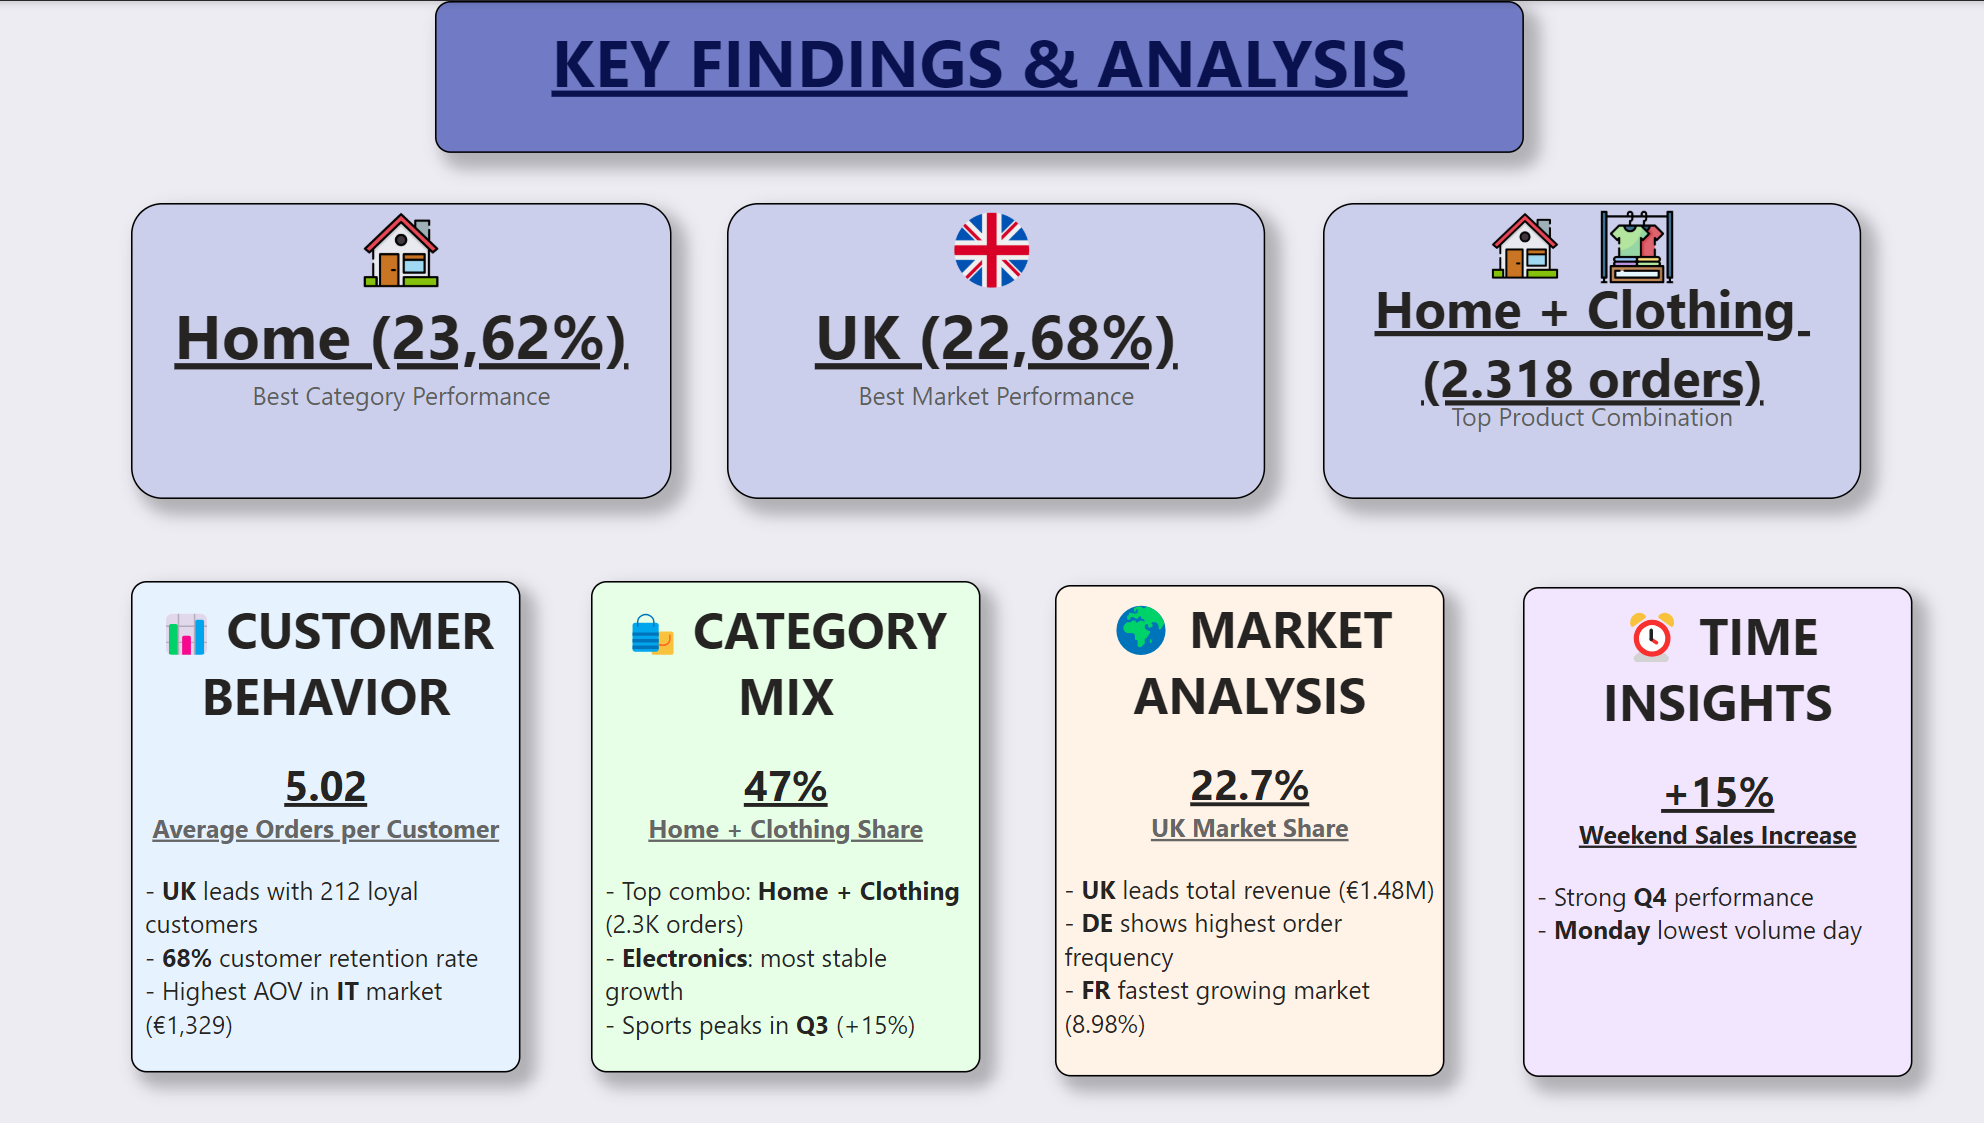

This screenshot's page, from the dashboard's own definition file:
{"tool":"powerbi","page":{"name":"Pagina 4","canvas":[1280,720],"ordinal":3},"visuals":[{"type":"textbox","box":[281.4,0,699.1,97.7],"z":0},{"type":"card","fields":{"Values":["prepared_ecommerce_data.Best Category Performance"]},"box":[85.7,130,347.1,190],"z":1000},{"type":"card","fields":{"Values":["prepared_ecommerce_data.Best Market Performance"]},"box":[468.6,130,345.7,190],"z":2000},{"type":"card","fields":{"Values":["prepared_ecommerce_data.Top Product Combination"]},"box":[851.4,130,345.7,190],"z":3000},{"type":"image","box":[223.6,131.1,72,57.8],"z":4000},{"type":"image","box":[600.2,131.1,78.4,57.8],"z":5000},{"type":"image","box":[1024.3,129.8,56.5,56.5],"z":6000},{"type":"image","box":[952.3,131.1,56.5,52.7],"z":7000},{"type":"textbox","box":[85.7,372.9,250,315.7],"z":8000},{"type":"textbox","box":[381.4,372.9,250,315.7],"z":9000},{"type":"textbox","box":[678.6,374.3,250,315.7],"z":10000},{"type":"textbox","box":[980,375.7,250,314.3],"z":11000}]}

Visuals, with their boxes in screenshot pixels (x1, y1, x2, y2), scaled from the page's 1280x720 canvas onto the 1984x1123 screenshot:
textbox: [436,0,1520,152]
card - prepared_ecommerce_data.Best Category Performance: [133,203,671,499]
card - prepared_ecommerce_data.Best Market Performance: [726,203,1262,499]
card - prepared_ecommerce_data.Top Product Combination: [1320,203,1856,499]
image: [347,204,458,295]
image: [930,204,1052,295]
image: [1588,202,1675,291]
image: [1476,204,1564,287]
textbox: [133,582,520,1074]
textbox: [591,582,979,1074]
textbox: [1052,584,1439,1076]
textbox: [1519,586,1906,1076]
